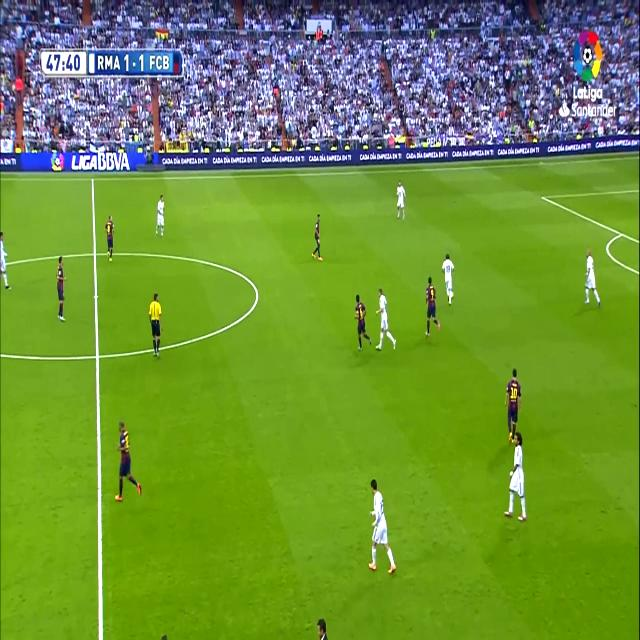halfcircle_bottom: (92, 342, 104, 368)
halfcircle_top: (90, 242, 100, 264)
midline_top_intersection: (89, 173, 96, 185)
top_arc_area_intersection: (617, 226, 625, 240)
